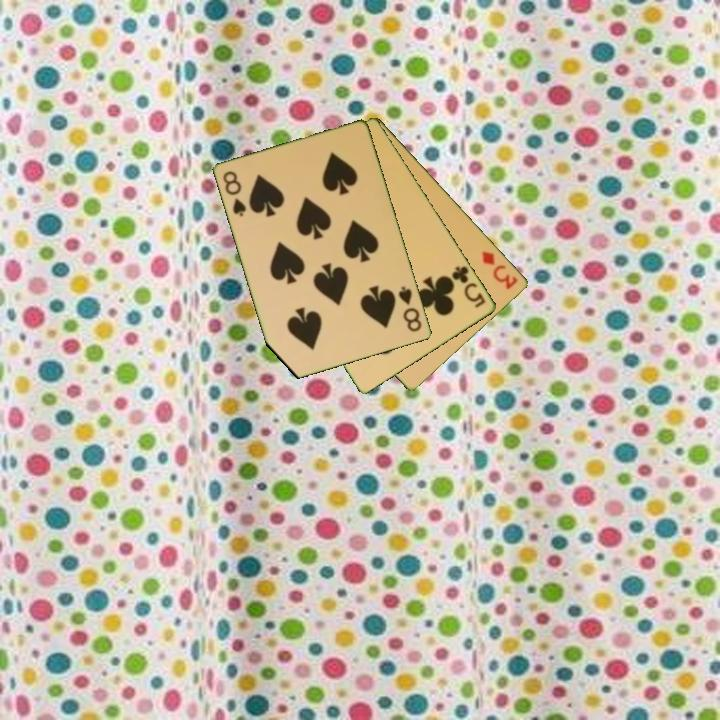3d: (479, 247, 521, 293)
5c: (449, 262, 489, 311)
8s: (395, 283, 425, 335), (220, 168, 250, 220)
